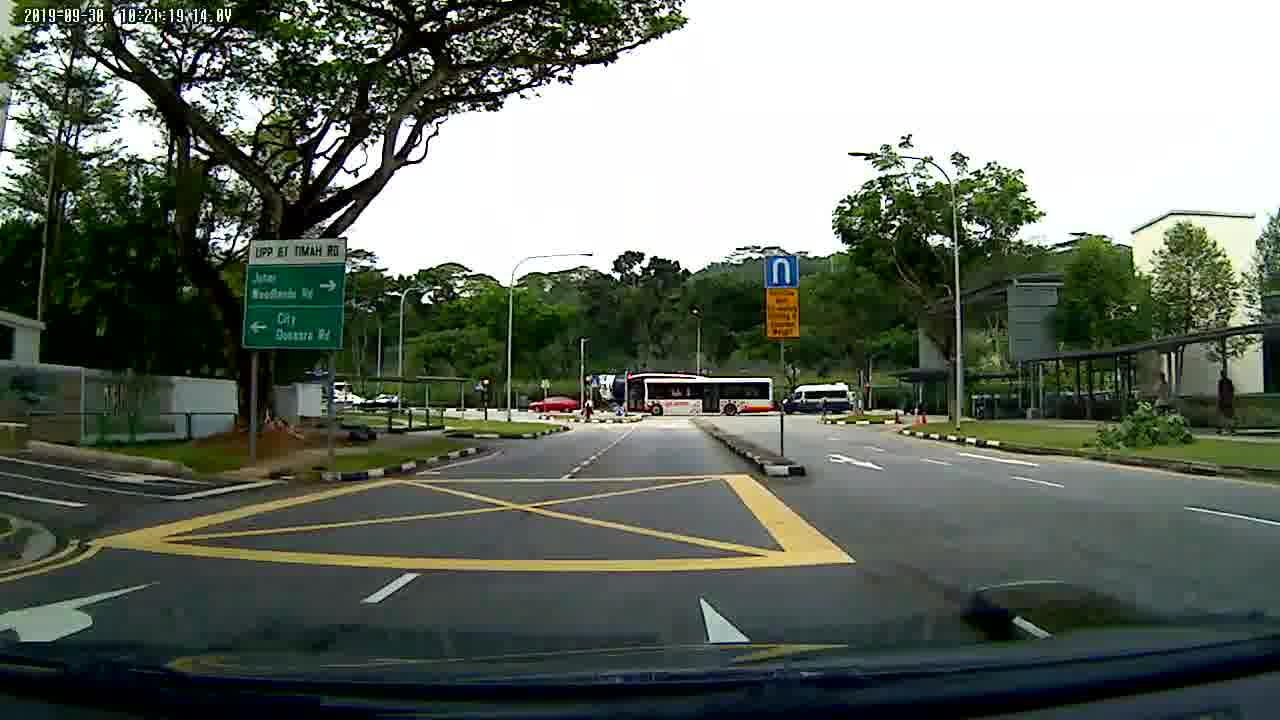bus: (621, 370, 776, 421)
car: (530, 395, 583, 414)
